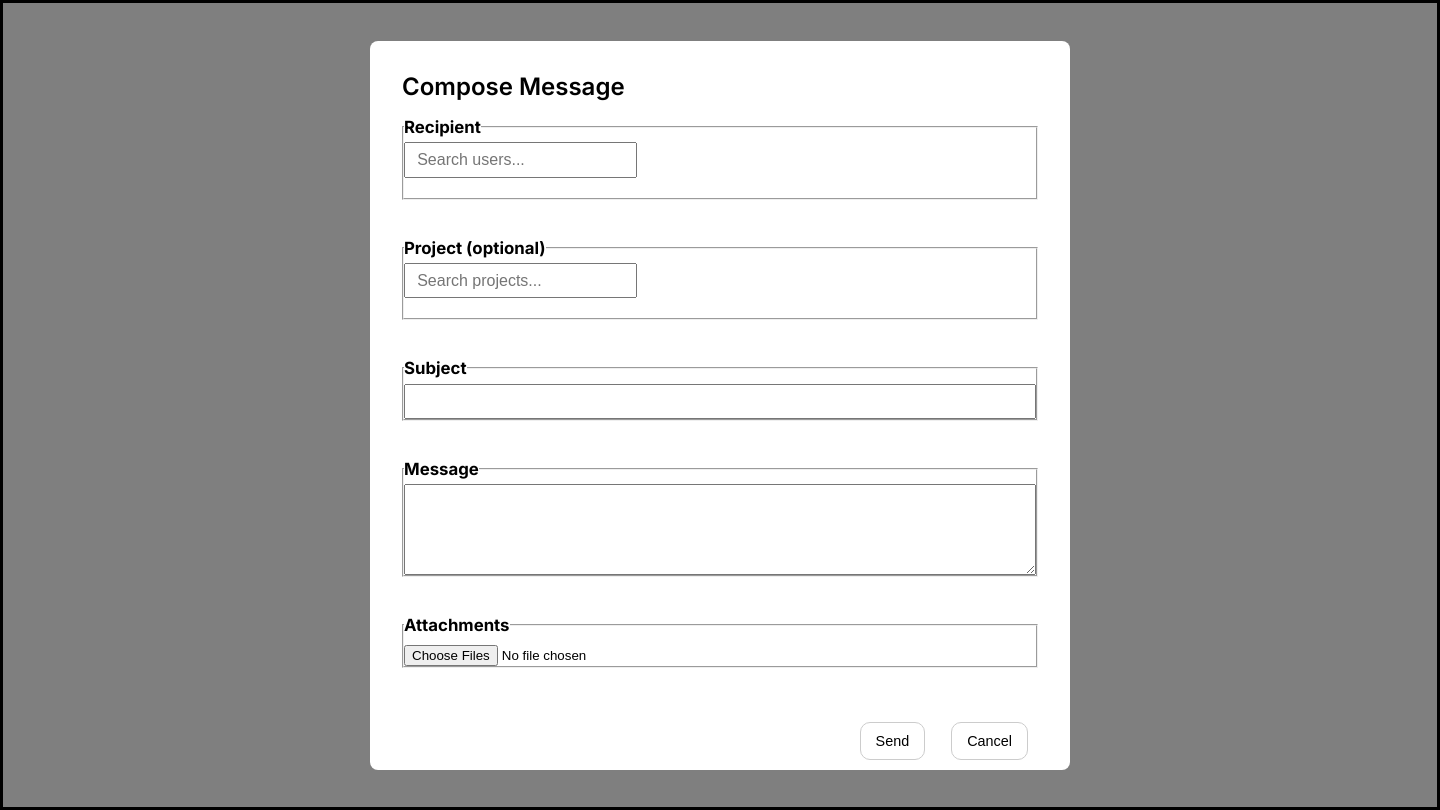
Test: ComposeMessage › shows and selects user search results
The image size is (1440, 810).
Type "Al" into the field with placeholder "Search users...". click: (521, 160)
box: [404, 142, 637, 178]
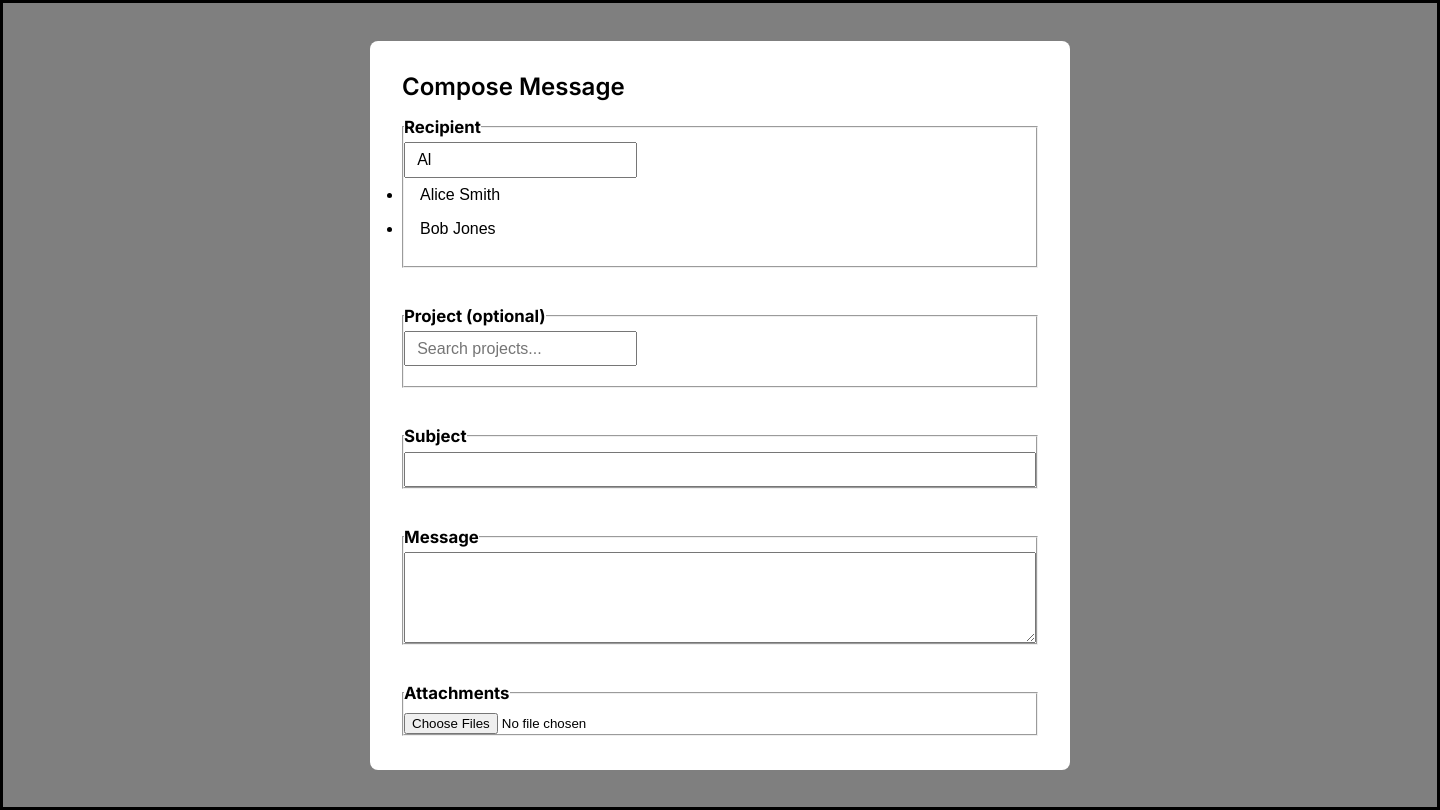
Check: the button "Alice Smith" is shown
Check: the button "Bob Jones" is shown, box [404, 212, 988, 246]
Click the button "Alice Smith". click: click(437, 194)
box: [404, 178, 988, 212]
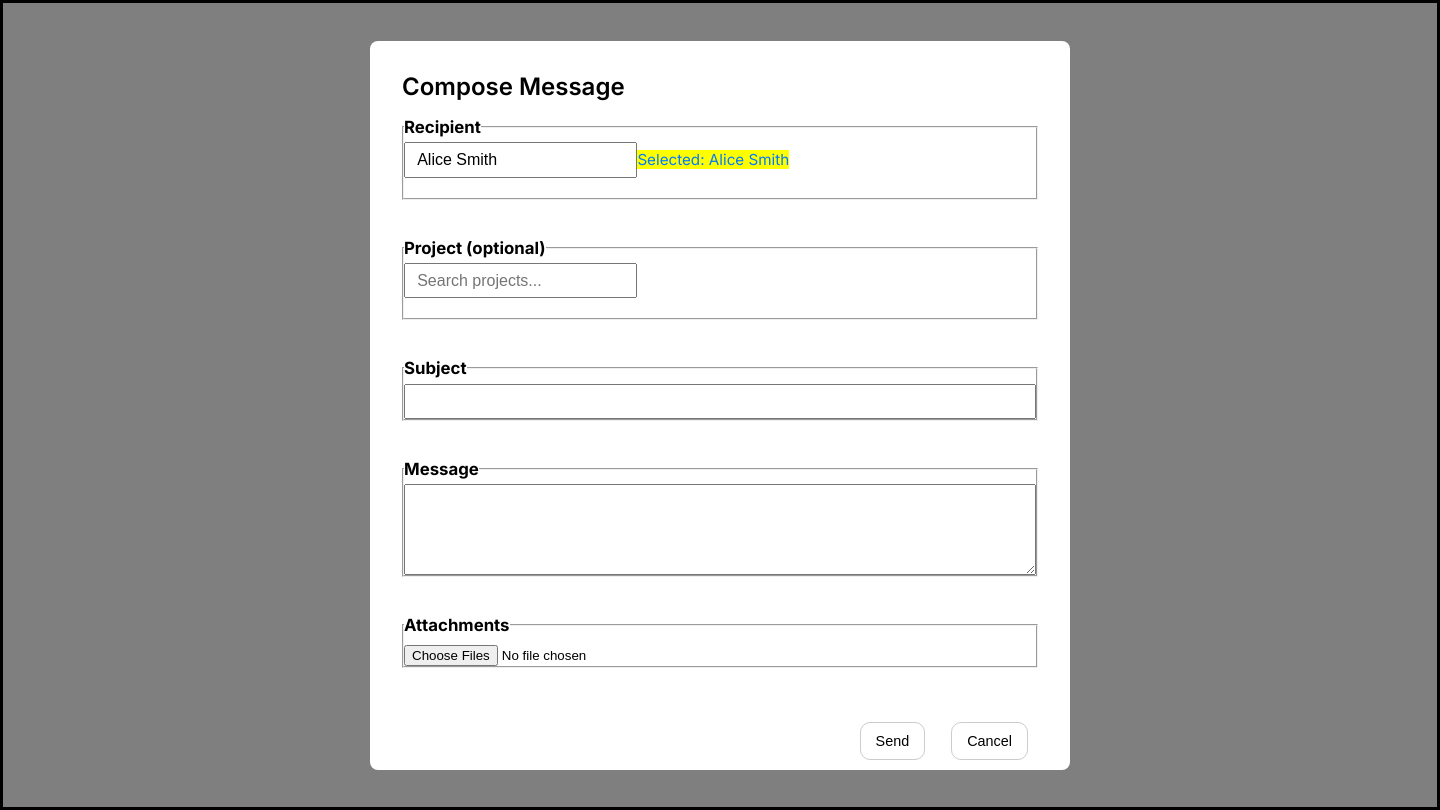
Check: the text "Selected: Alice Smith" is shown, box [637, 150, 789, 169]
